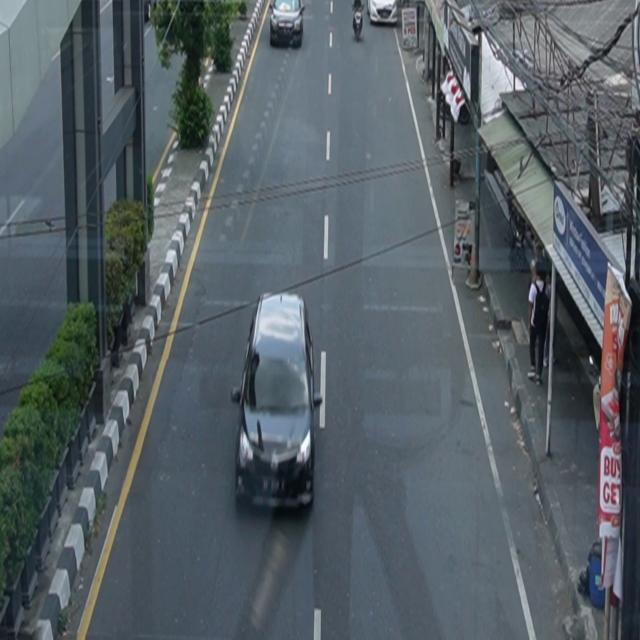car: (231, 292, 323, 514), (270, 1, 306, 49), (367, 1, 398, 26)
